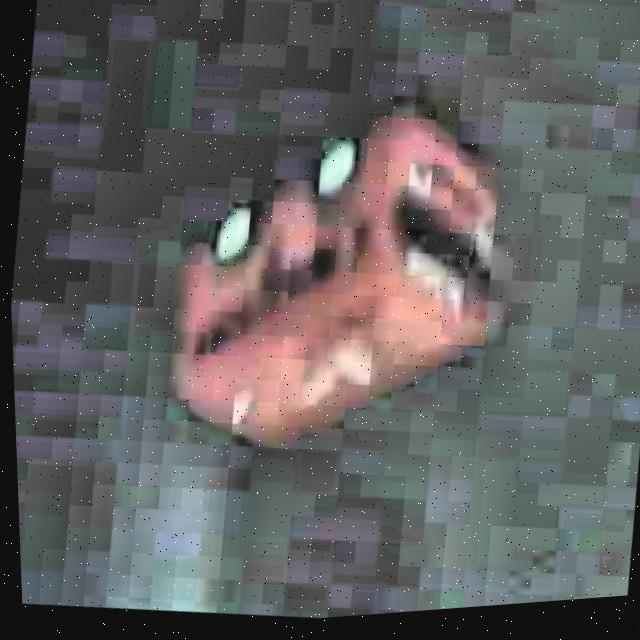bus: (133, 58, 542, 497)
